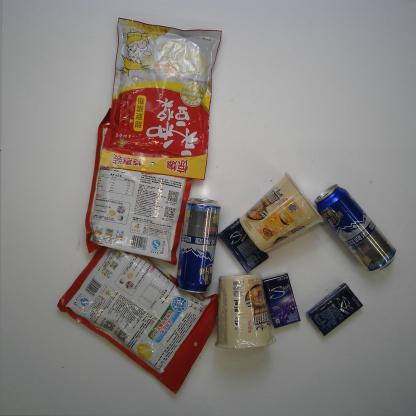Alcohol: (314, 183, 397, 273), (176, 196, 222, 294)
Gum: (306, 282, 363, 337), (217, 217, 270, 275), (262, 273, 301, 329)
Instant Drink: (57, 242, 219, 395), (98, 16, 224, 181), (85, 107, 193, 266)
Instant Noodles: (240, 171, 324, 253), (215, 273, 276, 350)
